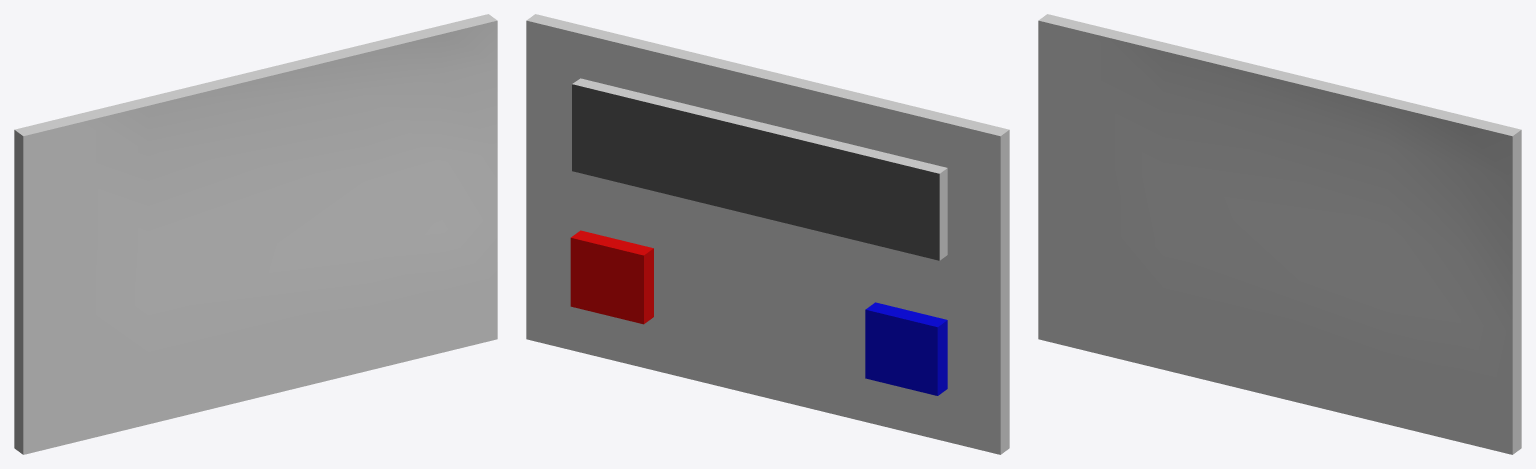
The model's file is Question_board.fbx.
3 views of the same model, side by side, from view 1: azimuth 30°, elevation 25°; view 2: azimuth 150°, elevation 25°; view 3: azimuth 330°, elevation 25° (orthographic).
Visible parts, largest first — view 1: pCube11; view 2: pCube11; view 3: pCube11.
Boxes of the visible parts, x1,y1,x2,y2 form: pCube11: (14, 14, 497, 454); pCube11: (526, 14, 1009, 454); pCube11: (1038, 14, 1521, 454).
Bounding box in the file's own units: 354 × 227 × 24.48.
